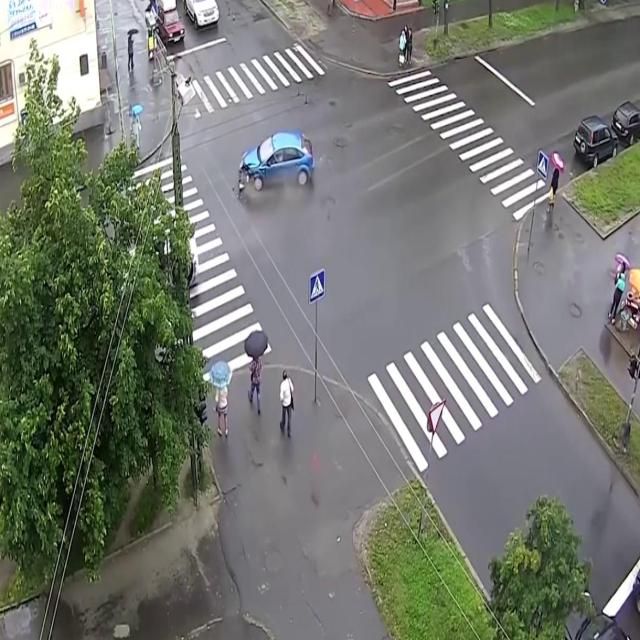accident: (230, 120, 318, 212)
